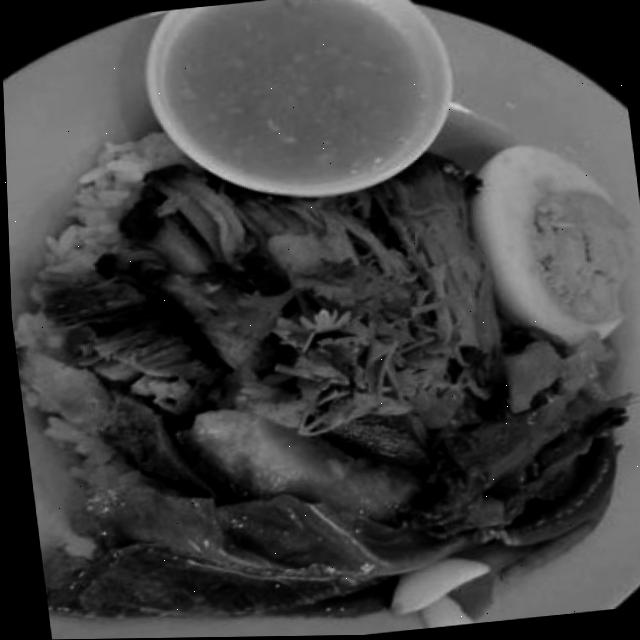猪肉菜式: (8, 30, 640, 622)
